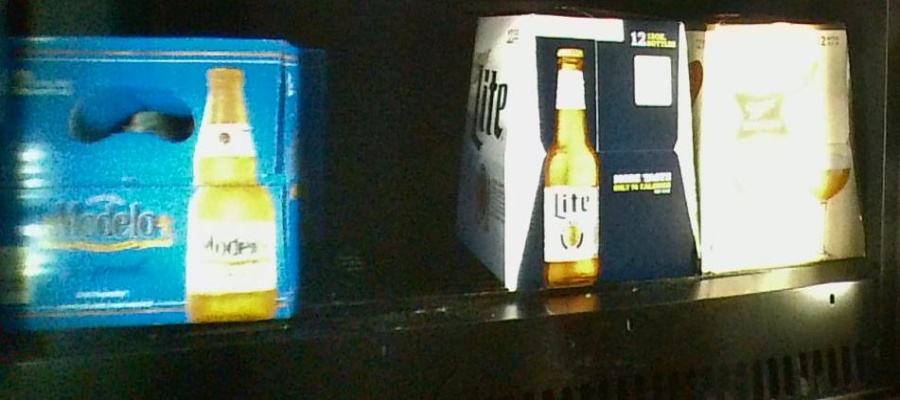bottle: (1, 40, 309, 323), (468, 12, 699, 280), (698, 18, 866, 271)
